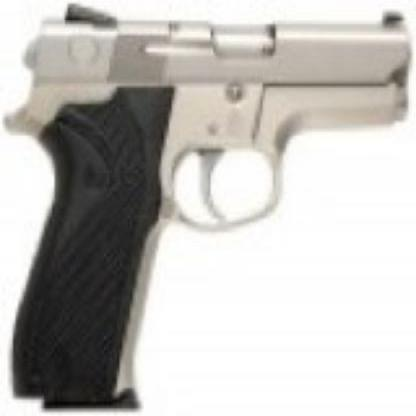pistol: (7, 7, 404, 401)
